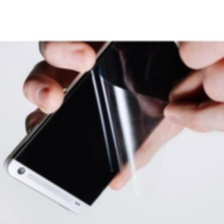phone: (1, 10, 223, 216)
